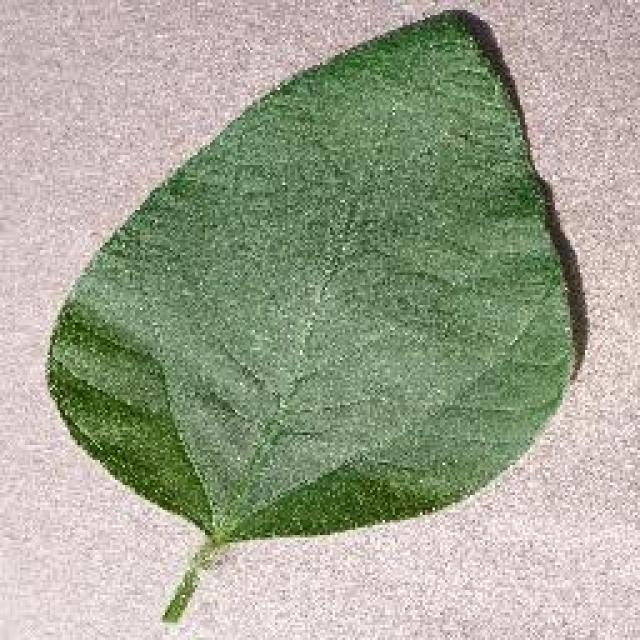Soy_healthy: (50, 87, 557, 500)
